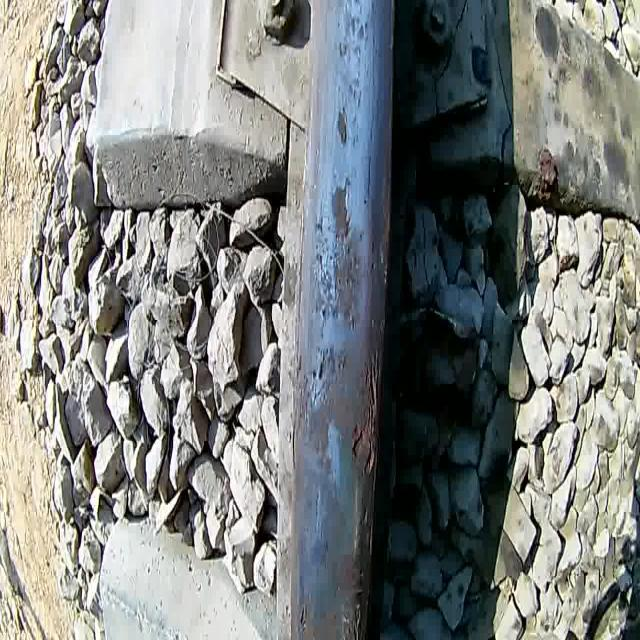Cracks: (291, 367, 330, 476), (368, 0, 379, 145), (364, 152, 374, 206)
Spallings: (348, 341, 382, 485), (335, 585, 371, 640), (293, 598, 312, 636), (316, 342, 330, 386)
Squats: (306, 337, 362, 468), (331, 0, 367, 153), (305, 212, 340, 330), (332, 226, 368, 332), (329, 168, 353, 242), (333, 101, 350, 148)
